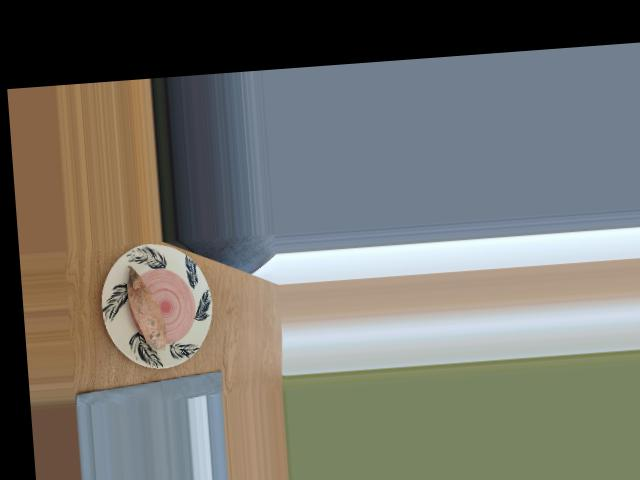sweet_potato: (119, 270, 172, 350)
